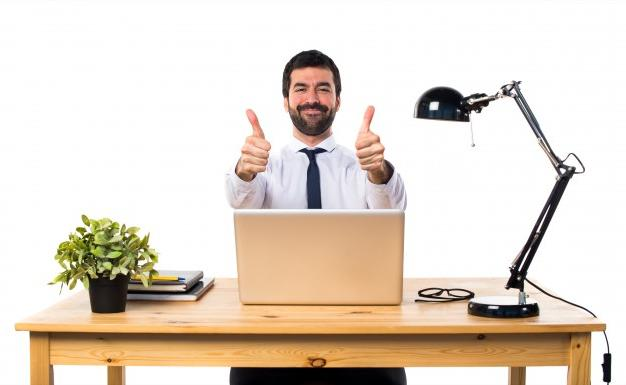thumbsup: (241, 109, 271, 173), (356, 105, 385, 171)
